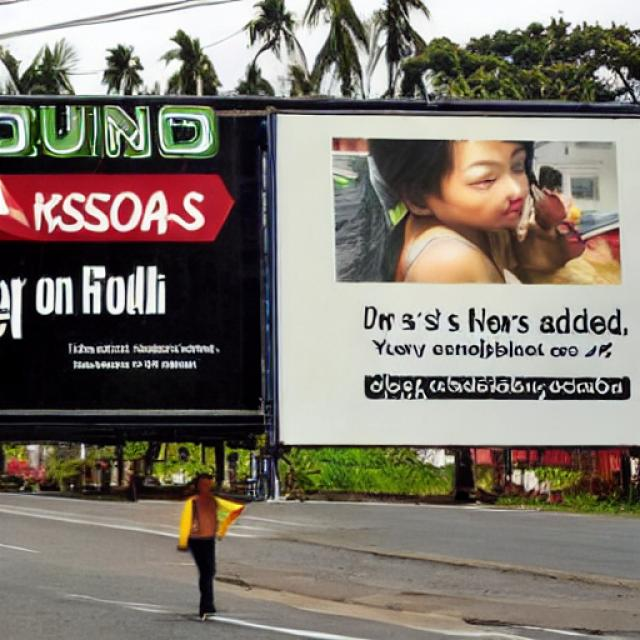Billboard: (0, 98, 640, 453)
